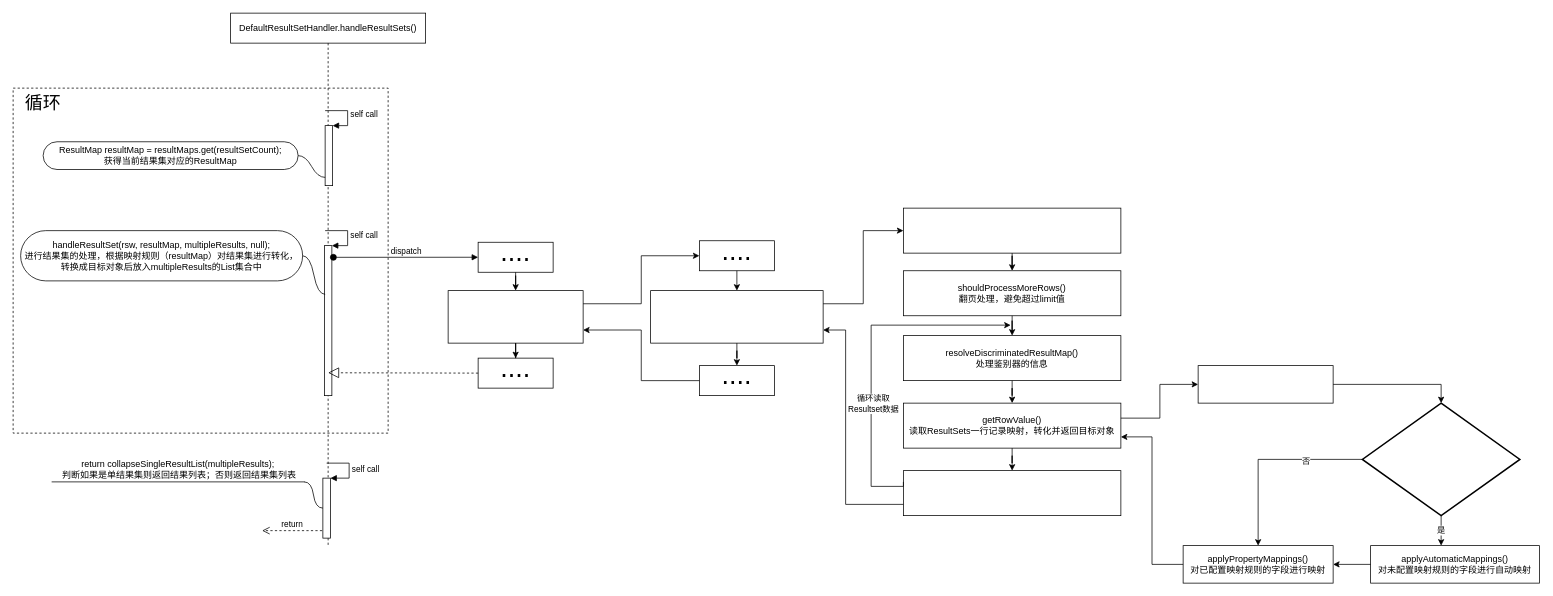
Some shapes in this 1553 by 596 pixel diagram are drawn without their labels. The centre of each missing label's shape, as x and y in pixels:
"createResultObject() 创建这一行记录对应的对象" goes at pixel 1265 384.
"handleRowValues() 处理有/无嵌套的ResultMap，使用指定的rusultHandler进行转换" goes at pixel 515 316.
"handleRowValuesForSimpleResultMap() 分页处理结果集" goes at pixel 736 316.
"shouldApplyAutomaticMappings() 是否允许自动映射未配置的字段" goes at pixel 1440 459.
"skipRows( ) 根据翻页配置，跳过指定的行" goes at pixel 1012 230.
"storeObject() 保存一行记录转化出的对象" goes at pixel 1012 493.
